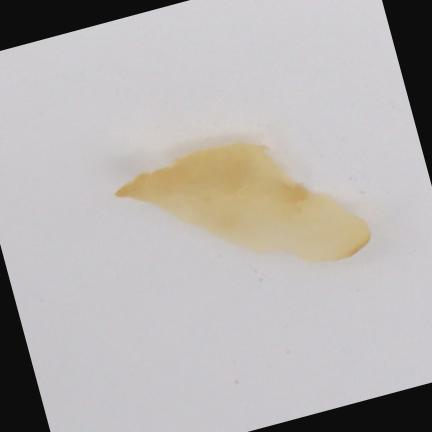parchment: (116, 143, 369, 260)
